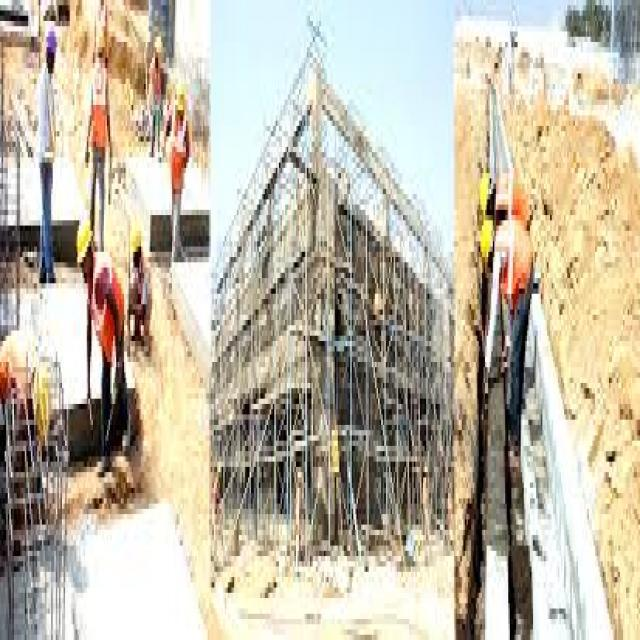reflective_jacket: (499, 210, 536, 315)
safety_helmet: (32, 356, 52, 446), (72, 204, 96, 267), (479, 215, 496, 272), (128, 209, 145, 262), (477, 162, 492, 220), (43, 15, 60, 57), (173, 78, 187, 115)
